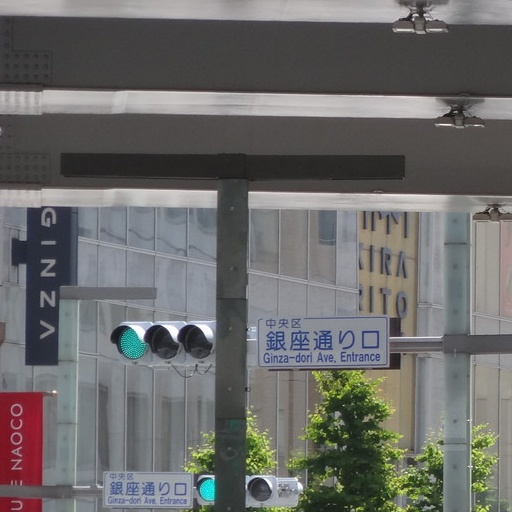Traffic_Signal_Blue: (106, 318, 214, 363)
